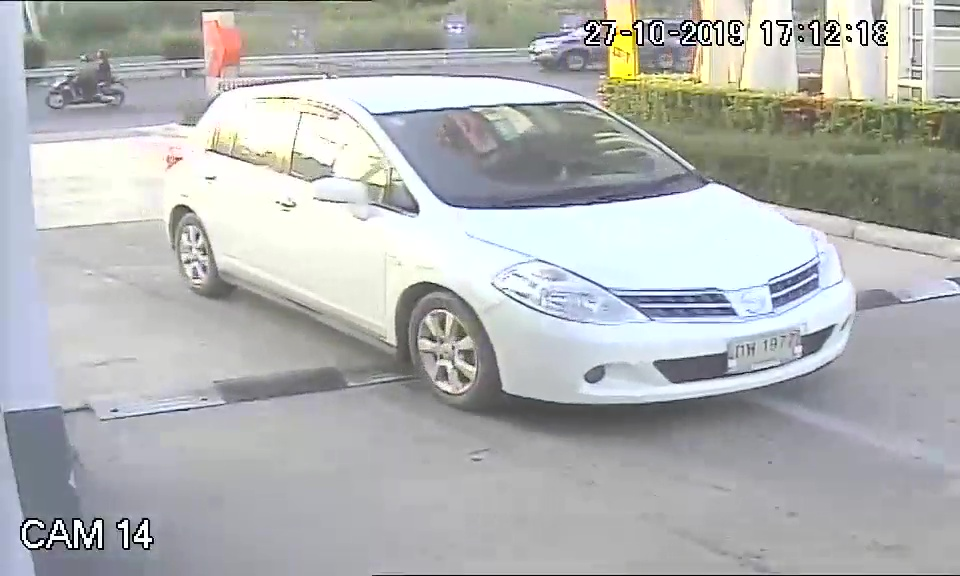sedan: (151, 78, 858, 414)
